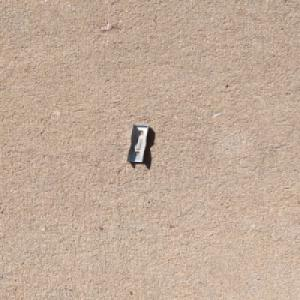ClampPart: (124, 122, 151, 163)
